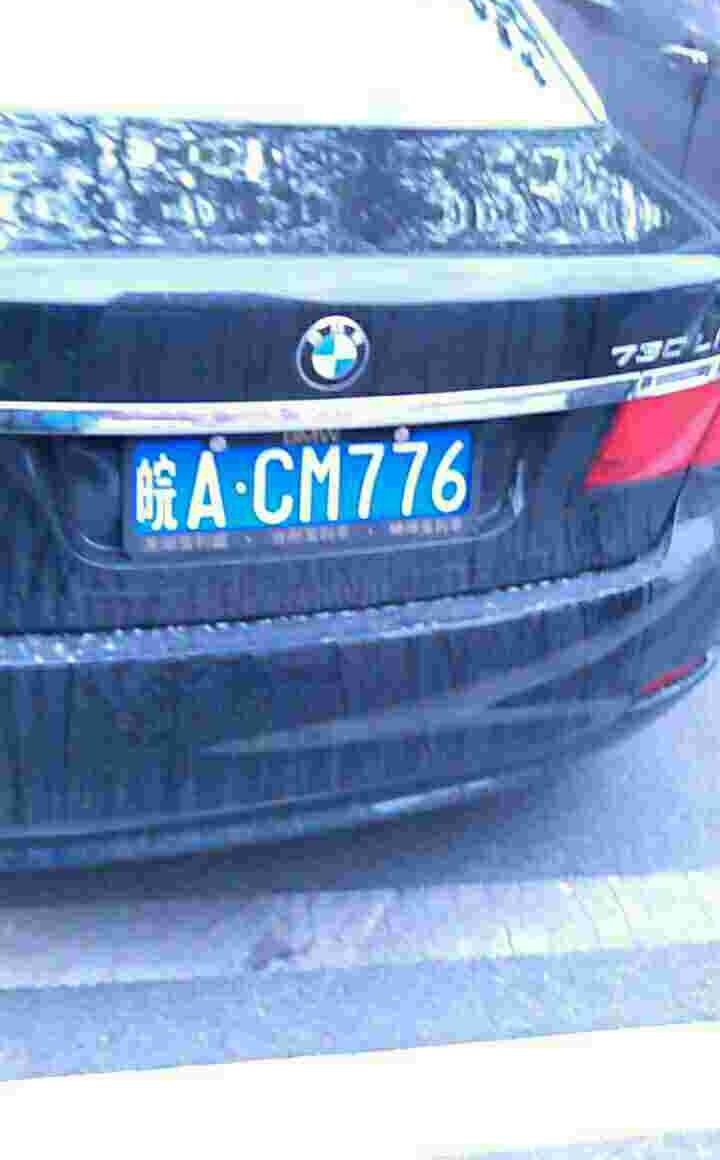license_plate: (115, 425, 473, 530)
